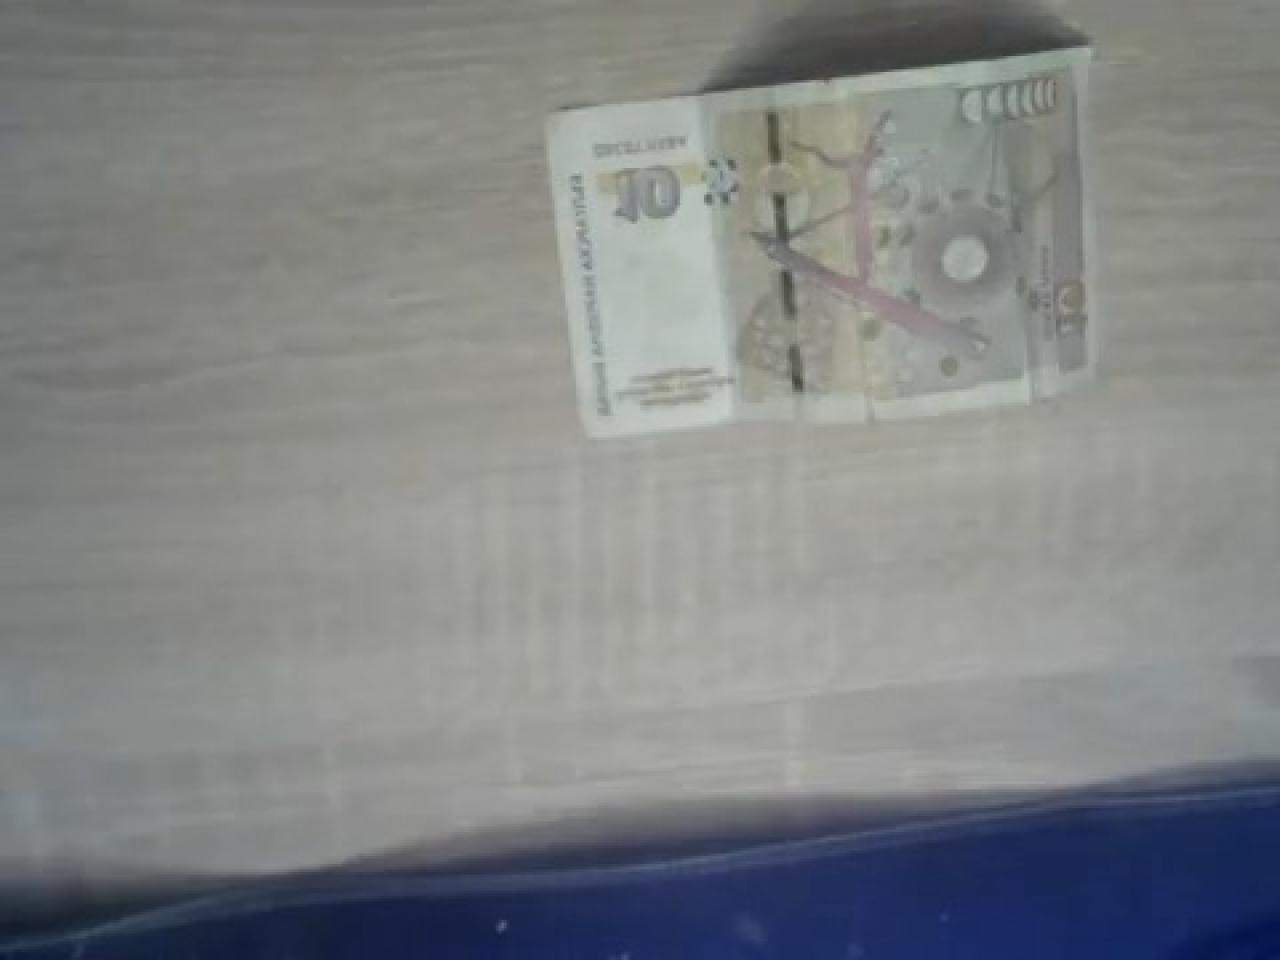10leva: (541, 34, 1102, 438)
